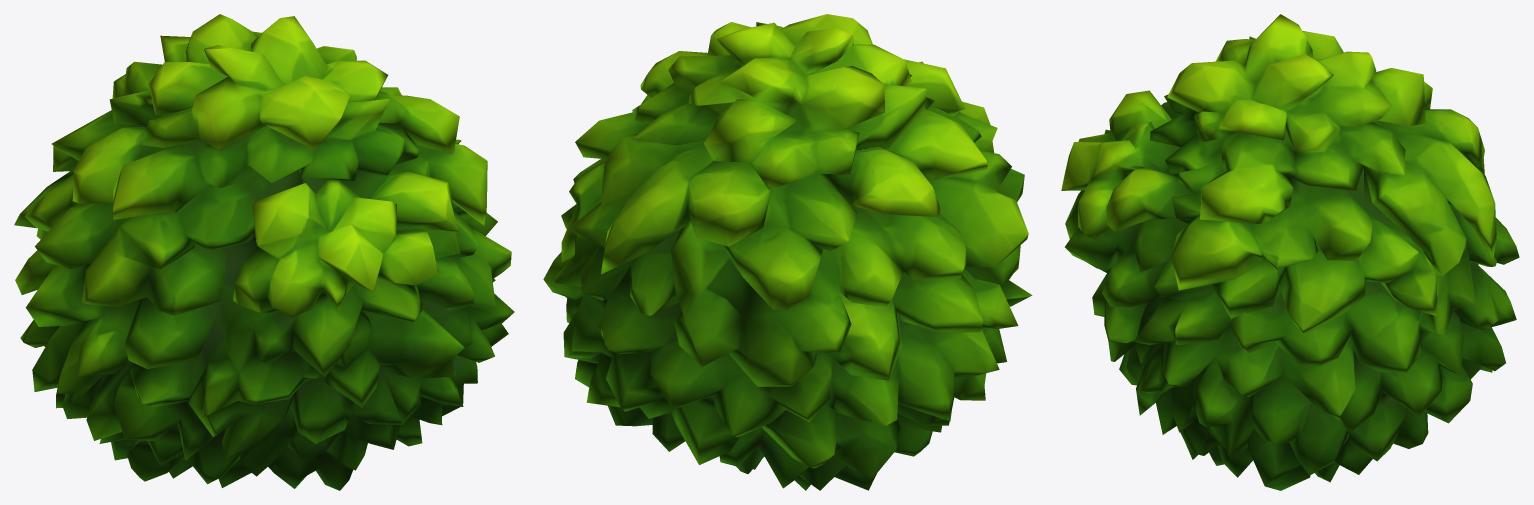
The model's file is Meshy_AI_Low_Poly_Round_Bush_1031000617_texture.fbx.
3 views of the same model, side by side, from view 1: azimuth 30°, elevation 25°; view 2: azimuth 150°, elevation 25°; view 3: azimuth 270°, elevation 25° (orthographic). The views are drawn at different scales.
Visible parts, largest first — view 1: geometry_0; view 2: geometry_0; view 3: geometry_0.
Part boxes in pixels (box(x1,y1,x2,y2)): geometry_0: box(14, 14, 514, 490); geometry_0: box(543, 14, 1032, 490); geometry_0: box(1061, 14, 1519, 490).
Bounding box in the file's own units: 103 × 100 × 102.
Materials: 1 (1 with a texture image).
